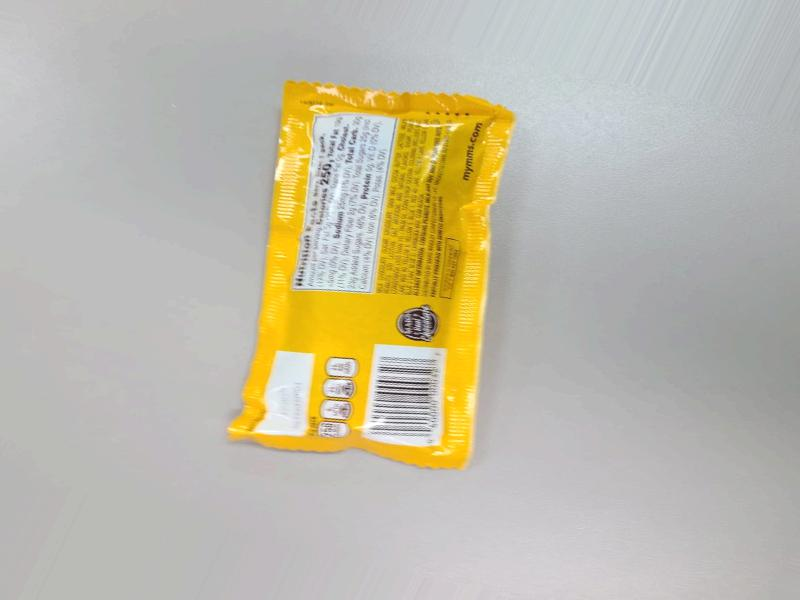m&m: (229, 93, 512, 470)
